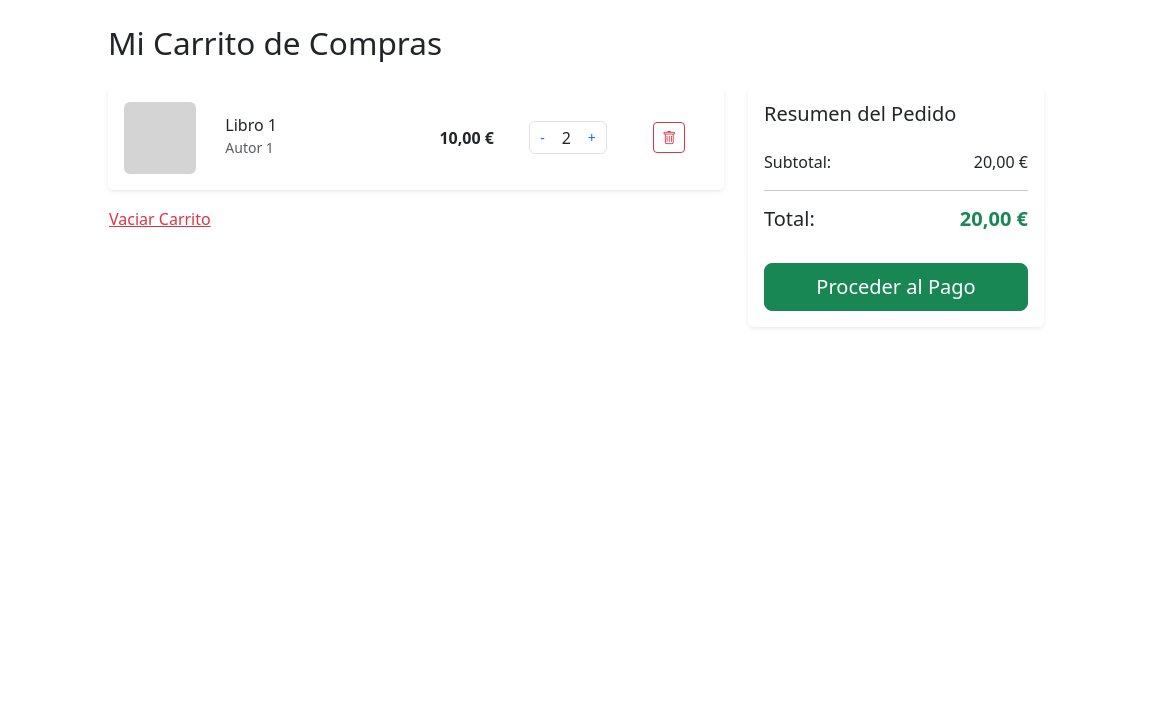
Test: Carrito Component › abre modal de login si usuario no está autenticado al proceder al pago
Click the button "Proceder al Pago" at (896, 287), box [764, 263, 1028, 311]
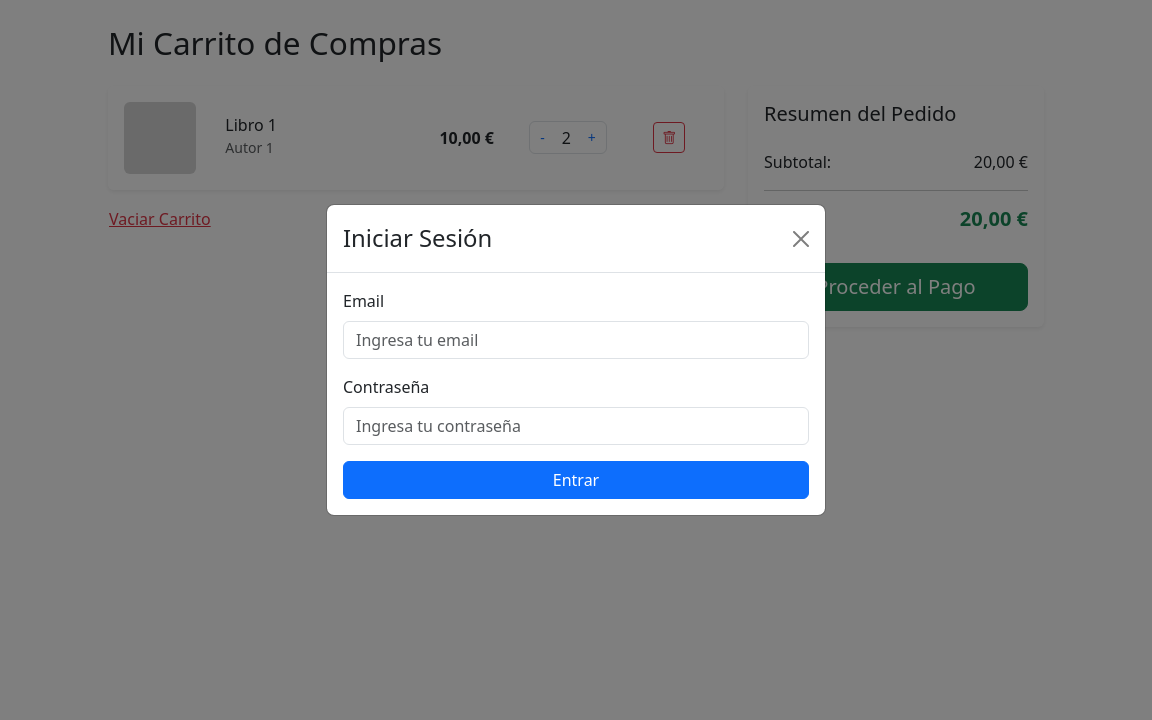
Result: the text "Iniciar Sesión" is shown at [343, 221, 492, 256]
